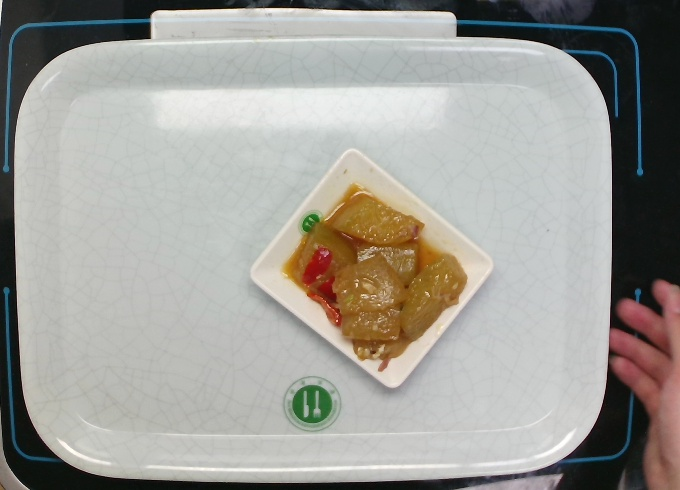WCQzf-Bai_Se_Si_Fang_Die: (245, 142, 499, 396)
